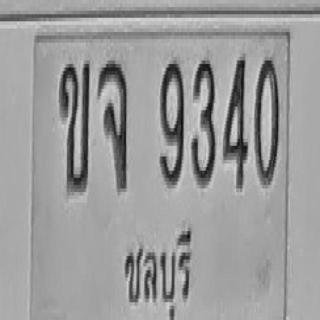A02: (58, 60, 90, 192)
A08: (97, 59, 127, 190)
N00: (254, 53, 279, 185)
N03: (191, 57, 216, 185)
N04: (223, 54, 248, 188)
N09: (160, 59, 184, 187)
P13: (119, 220, 193, 320)
